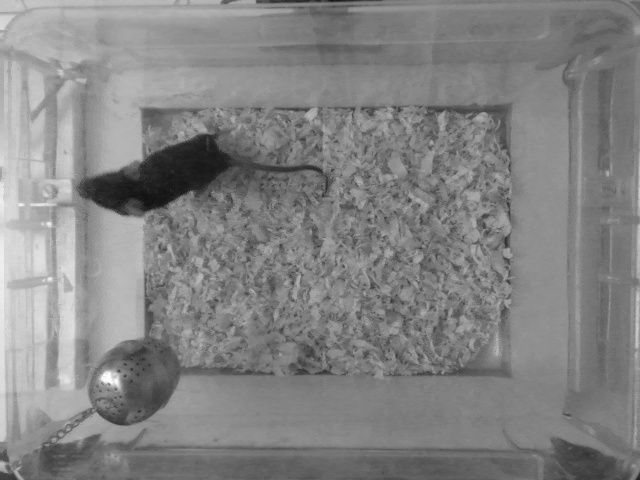mice: (75, 130, 331, 218)
